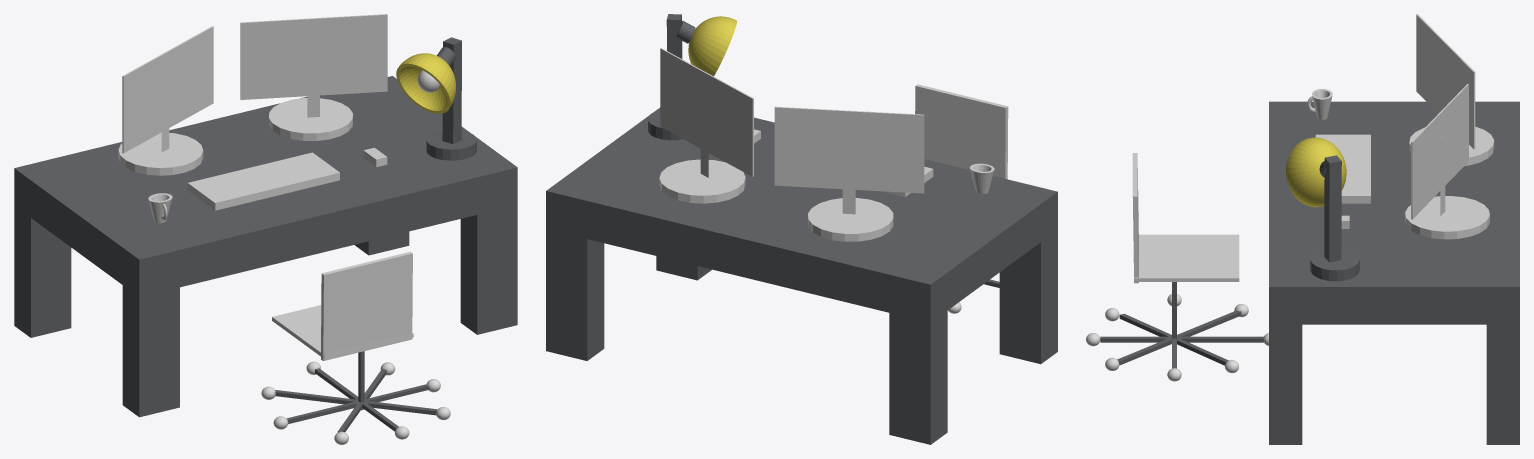
The model's file is Glorious Habbi.glb.
3 renders of one model, left to right at view 1: azimuth 30°, elevation 25°; view 2: azimuth 150°, elevation 25°; view 3: azimuth 270°, elevation 25°, orthographic.
Parts seen in each view (by area): view 1: Mesh_Mesh_head_geo.001_lambert2SG.001; view 2: Mesh_Mesh_head_geo.001_lambert2SG.001; view 3: Mesh_Mesh_head_geo.001_lambert2SG.001.
Boxes of the visible parts, left/top/right/bottom form: Mesh_Mesh_head_geo.001_lambert2SG.001: left=14, top=14, right=517, bottom=444; Mesh_Mesh_head_geo.001_lambert2SG.001: left=546, top=14, right=1057, bottom=444; Mesh_Mesh_head_geo.001_lambert2SG.001: left=1086, top=14, right=1519, bottom=444.
Size of the model in its own units: 103 by 71 by 102.
